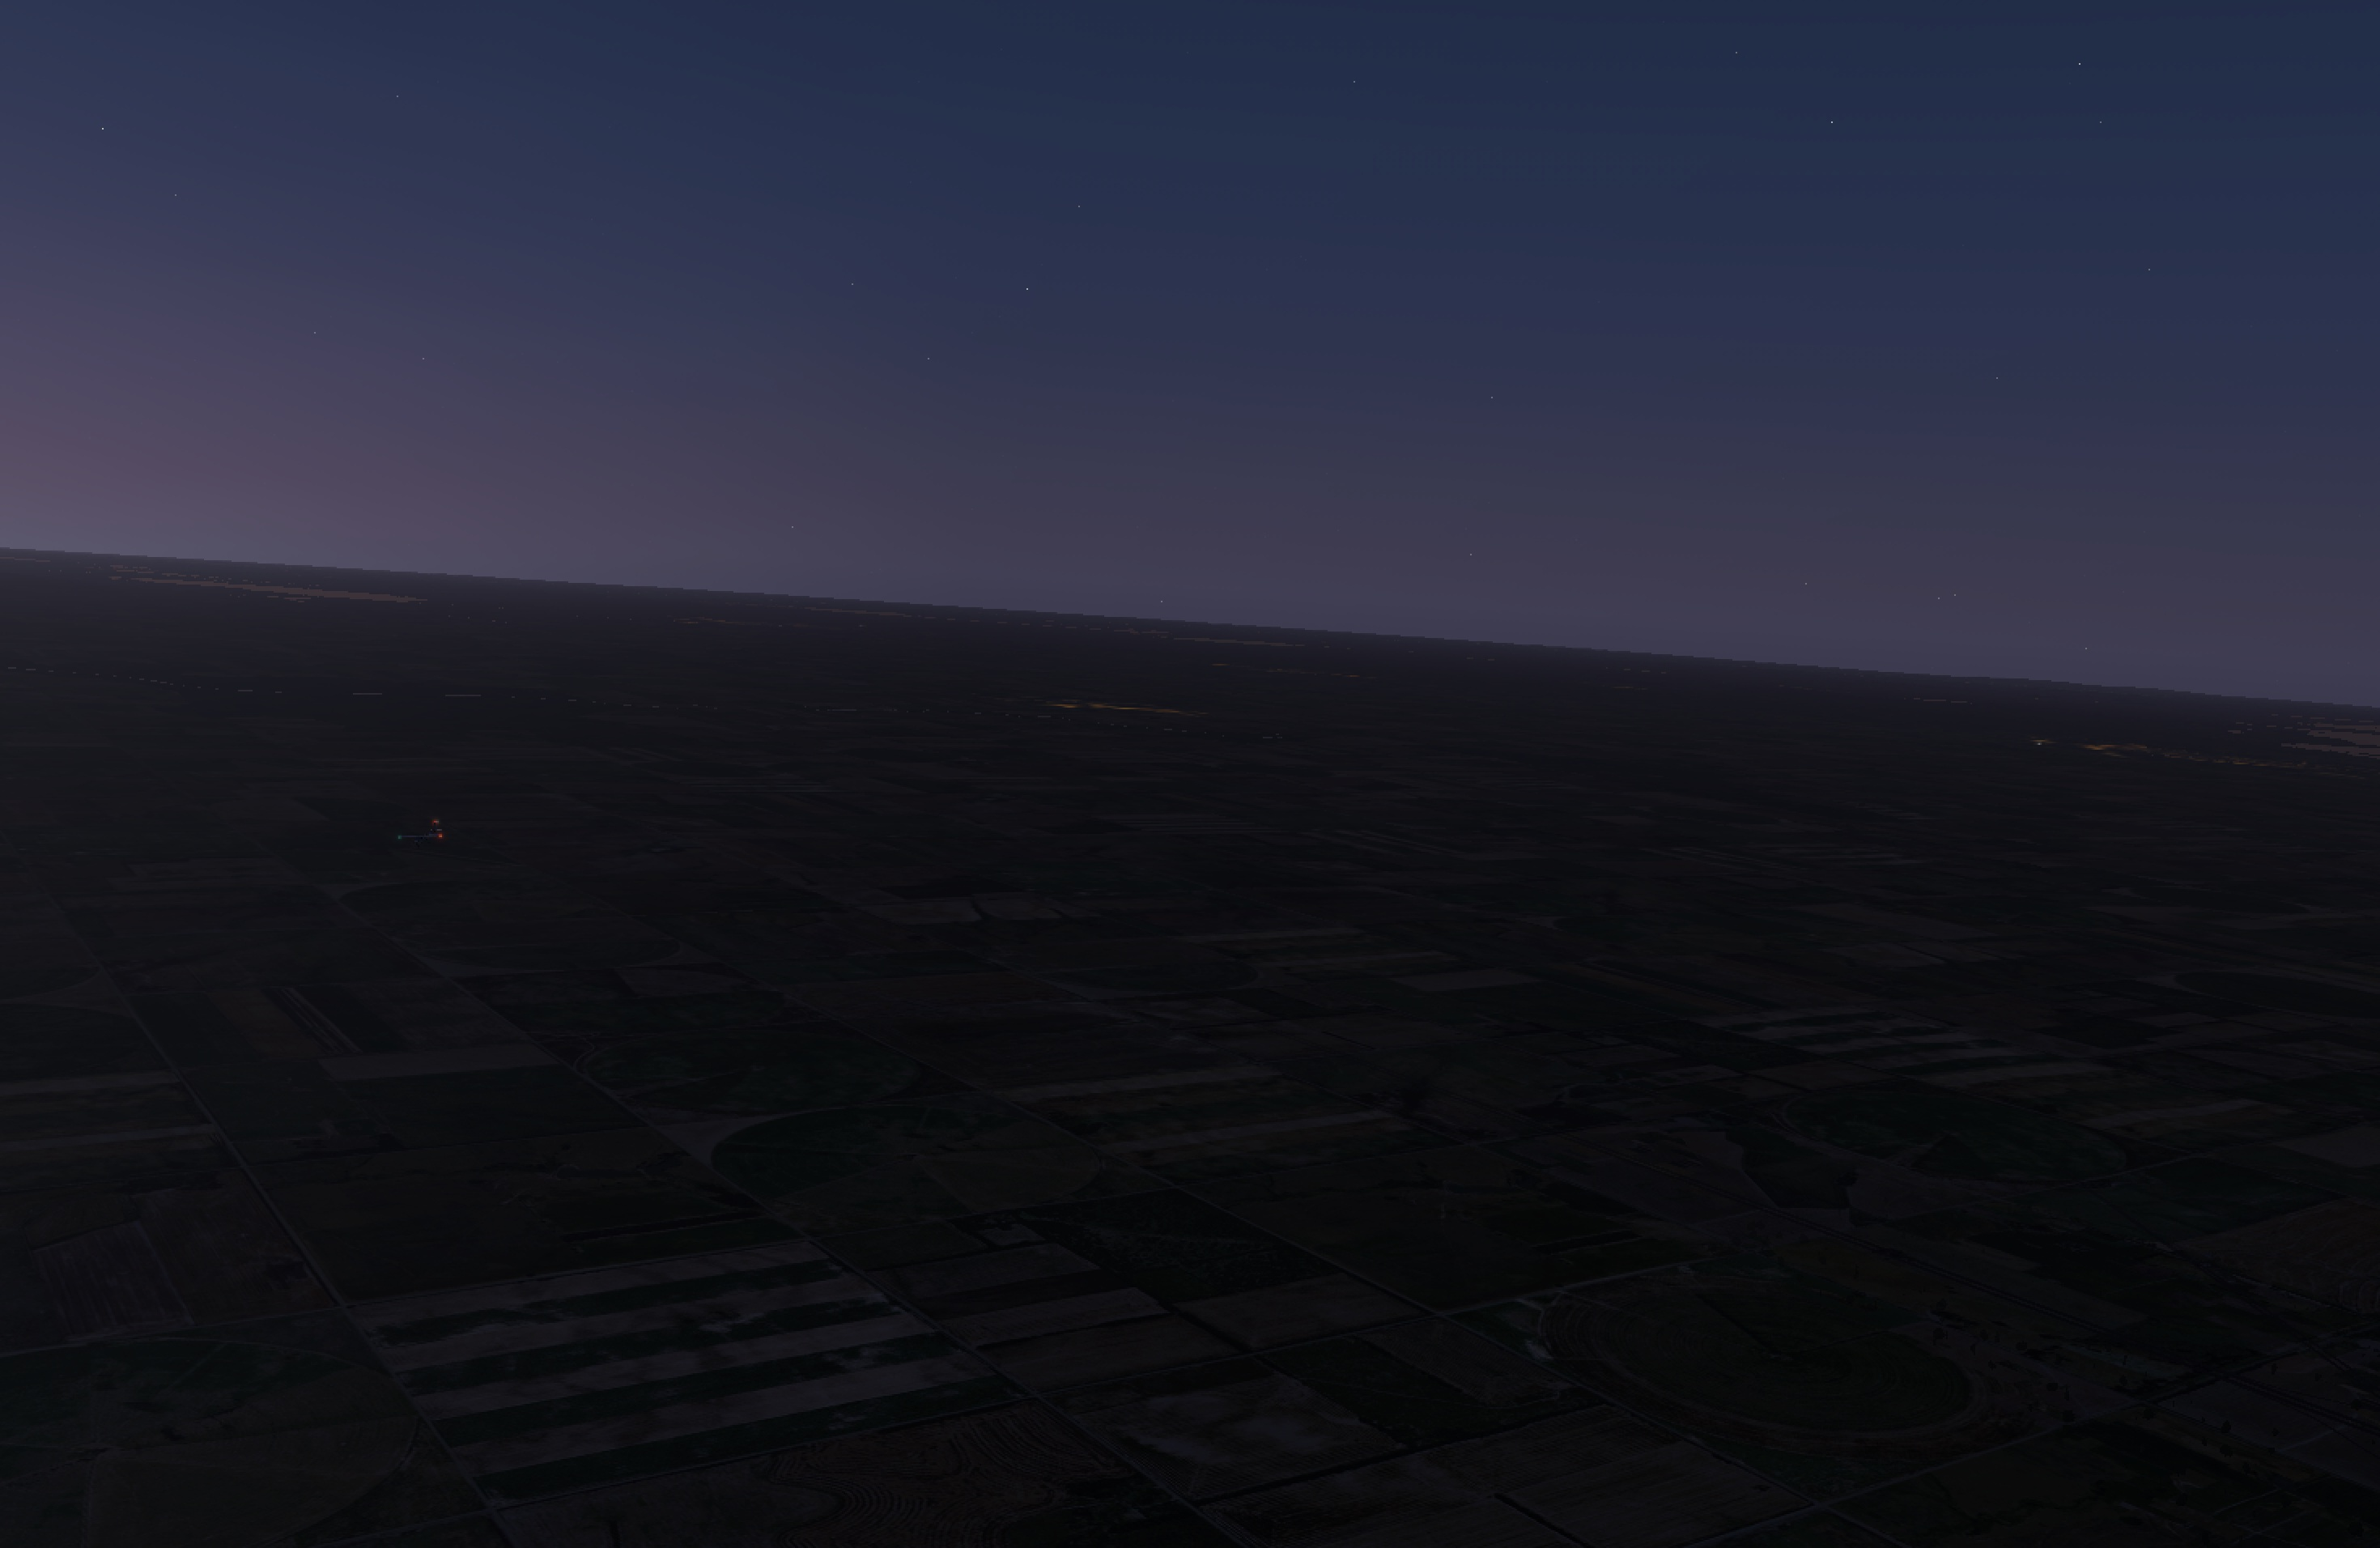aircraft: (404, 833, 439, 845)
